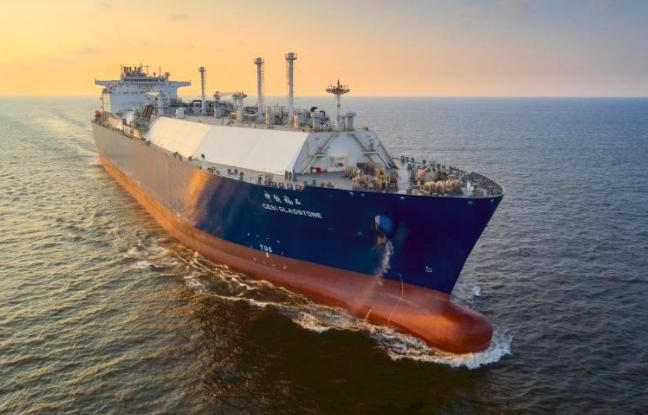Cargoship: (92, 48, 502, 356)
